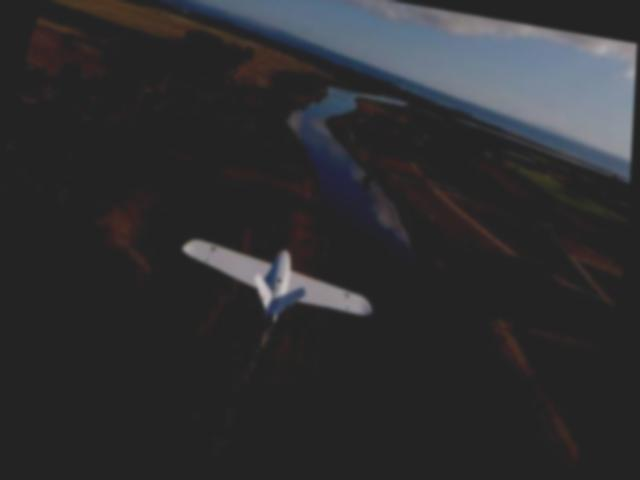iha: (167, 224, 393, 349)
